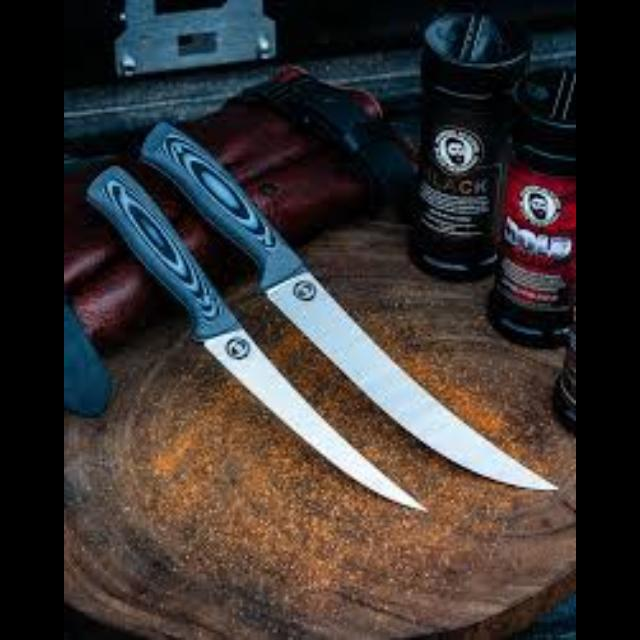knife: (138, 118, 558, 492)
